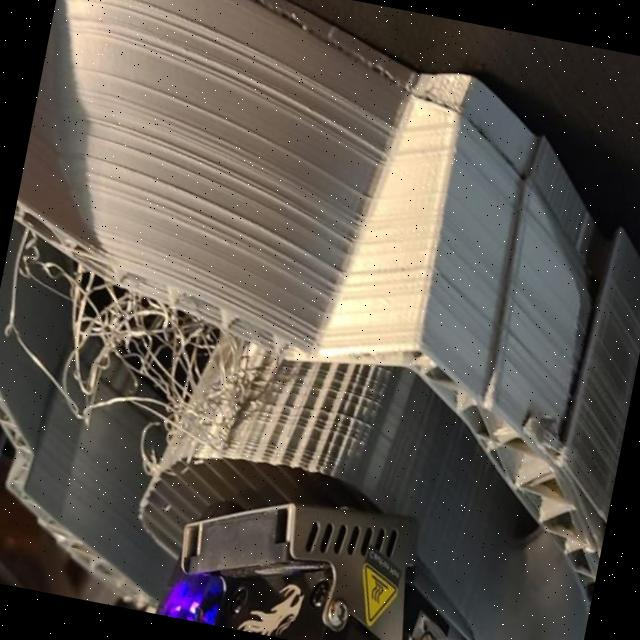spaghetti: (0, 214, 286, 475)
